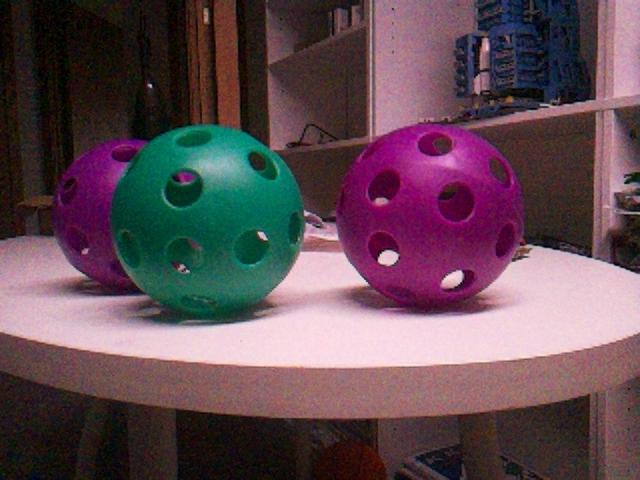Green: (109, 124, 304, 318)
Purple: (333, 125, 521, 306), (50, 140, 151, 291)
